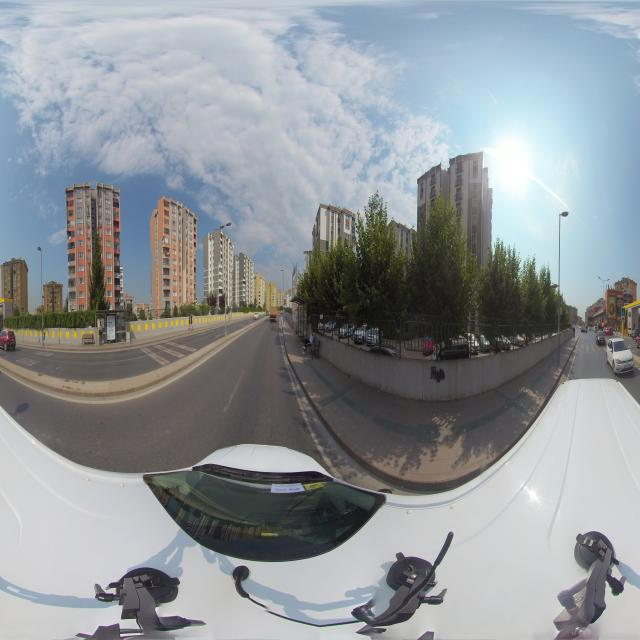SignStore: (608, 320, 616, 323)
